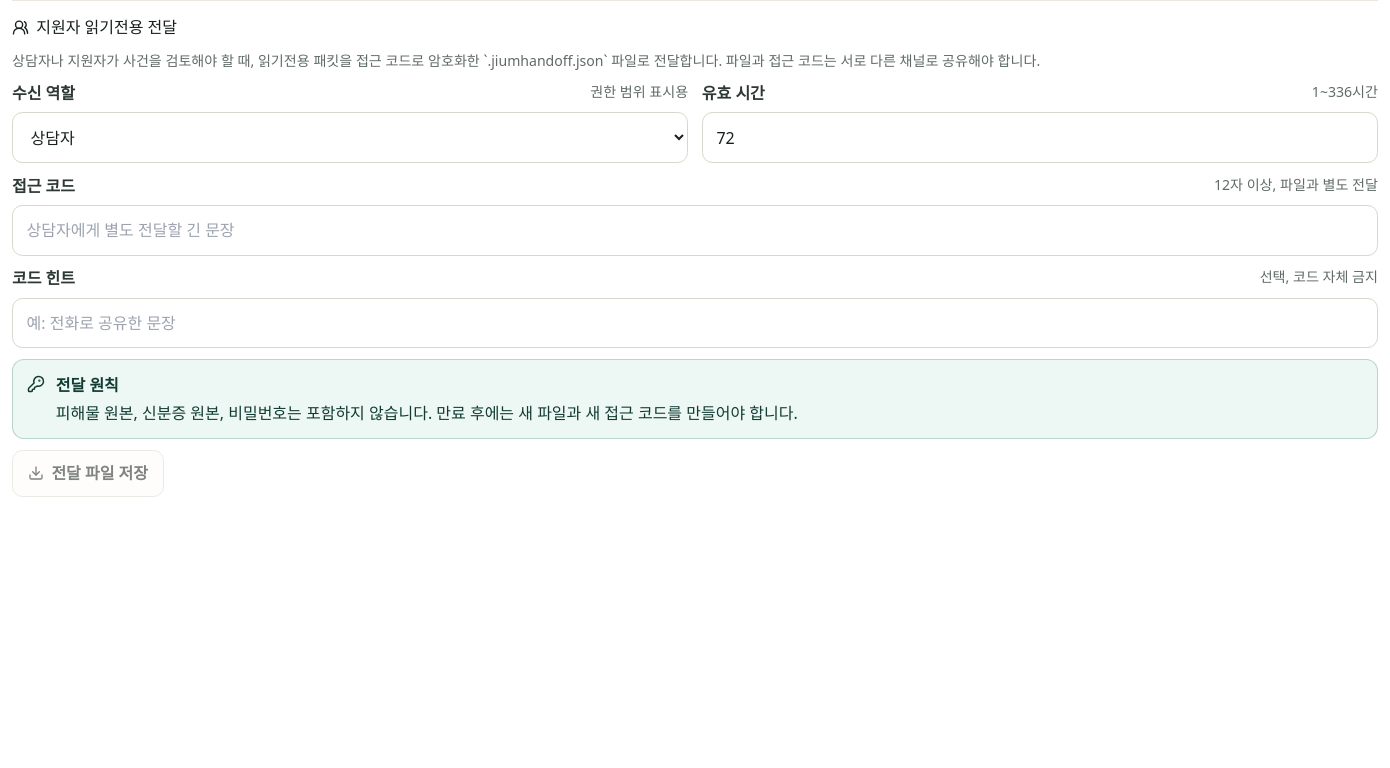
Test: SupportHandoffPanel › requires a long access code and exports an encrypted handoff file
This screenshot has width=1390, height=768.
expect the heading "지원자 읽기전용 전달" is shown: met, box x1=12 y1=16 x2=177 y2=38
expect the button "전달 파일 저장" is disabled: met, box x1=12 y1=450 x2=164 y2=497
In the password field with placeholder "상담자에게 별도 전달할 긴 문장": (695, 230) x1=12 y1=205 x2=1378 y2=256, type "long support access code"
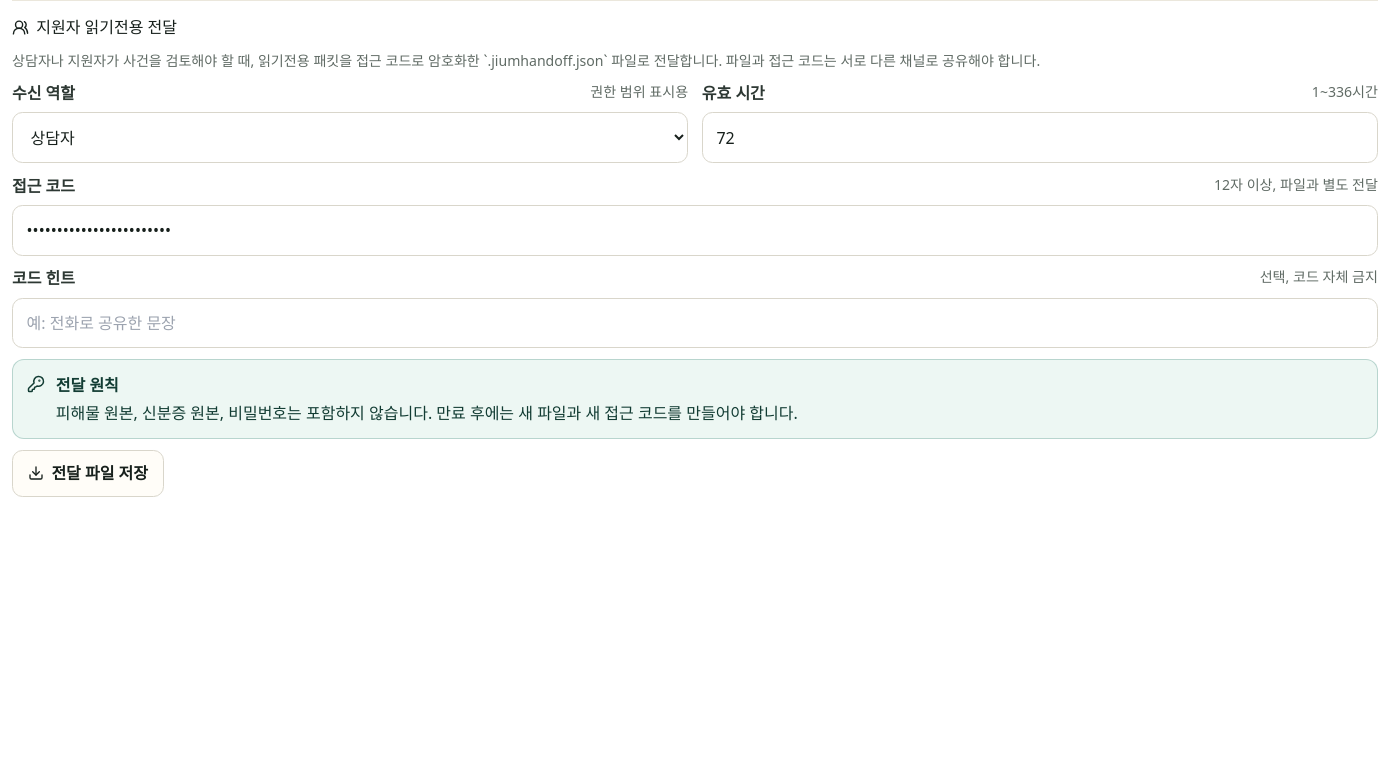
In the field with placeholder "예: 전화로 공유한 문장": (695, 323) x1=12 y1=298 x2=1378 y2=348, type "전화로 공유"
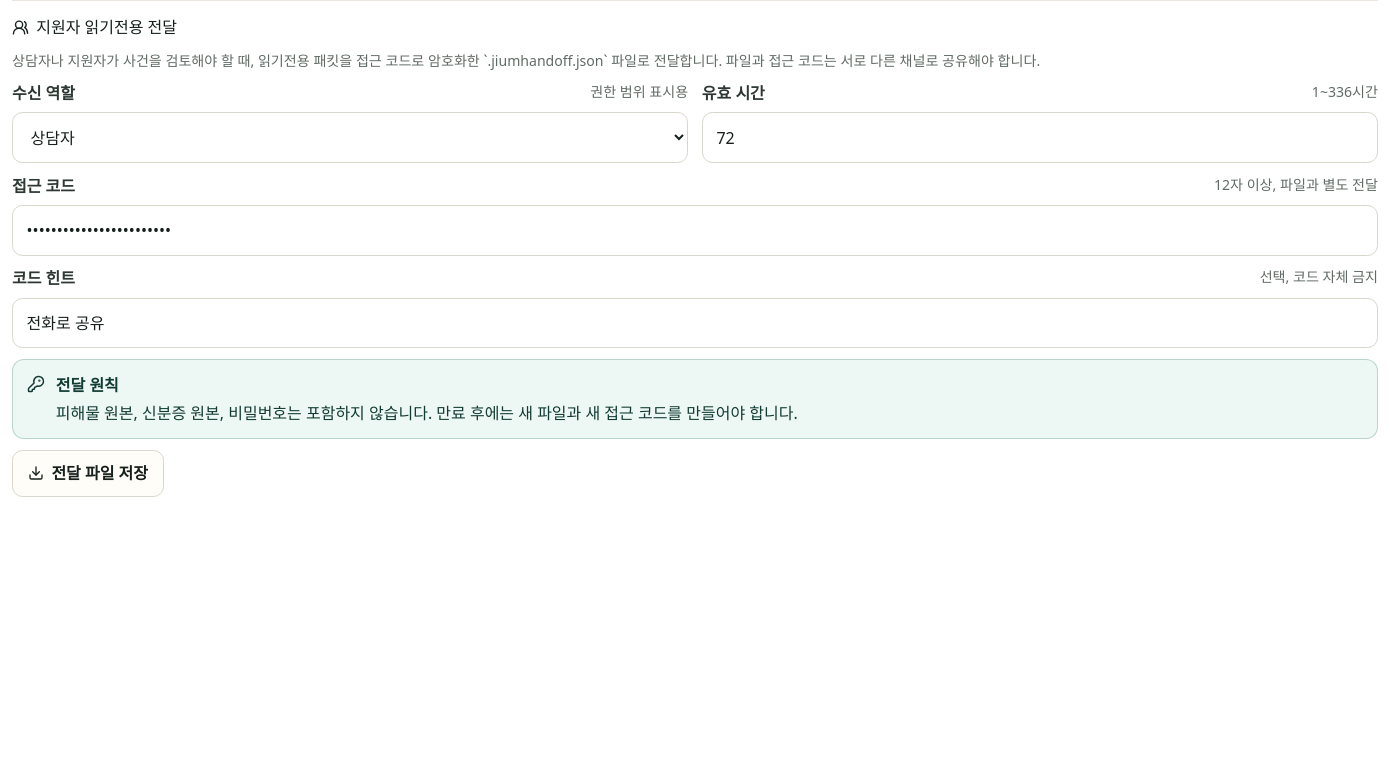
Click the button "전달 파일 저장": (88, 474) x1=12 y1=450 x2=164 y2=497
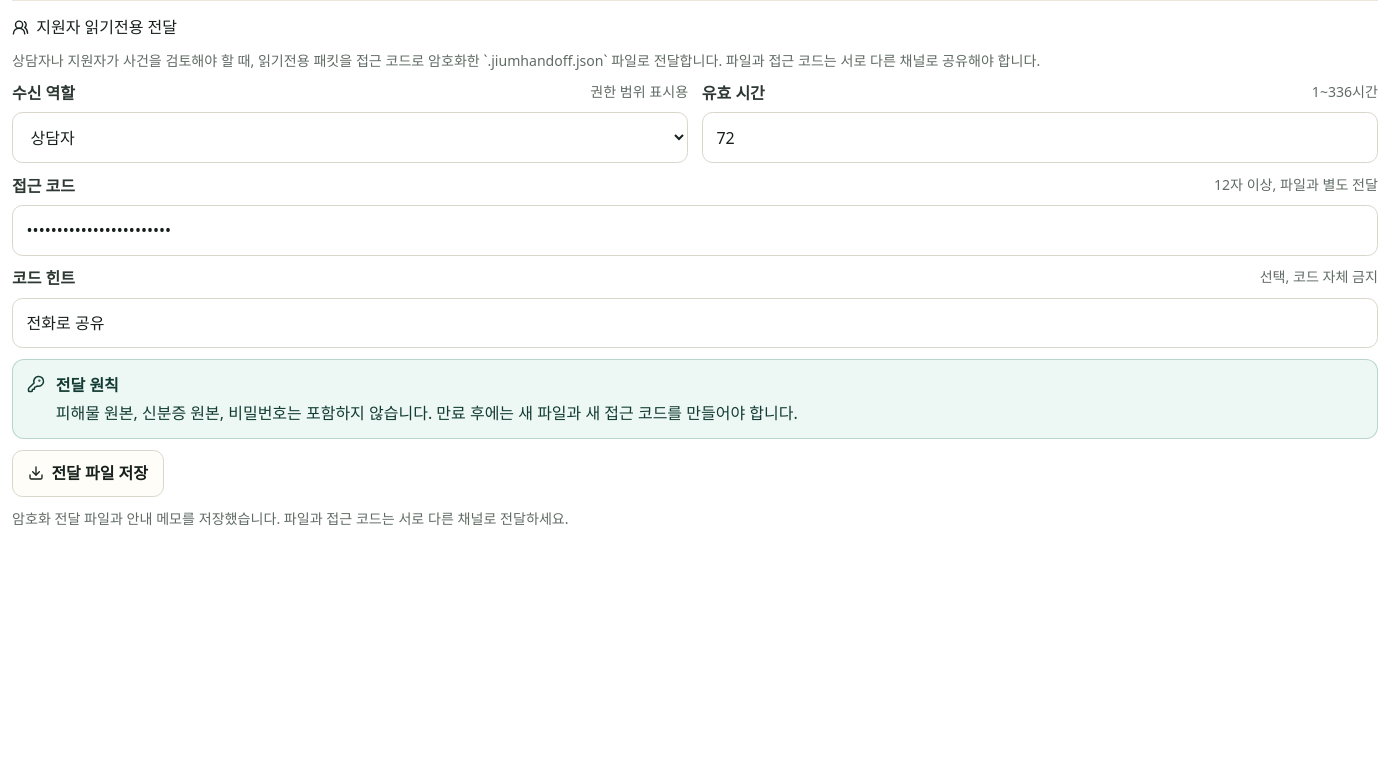
expect the text "암호화 전달 파일과 안내 메모를 저장했습니다. 파일과 접근 코드는 서로 다른 채널로 전달하세요." is shown: met, box x1=12 y1=509 x2=569 y2=528
